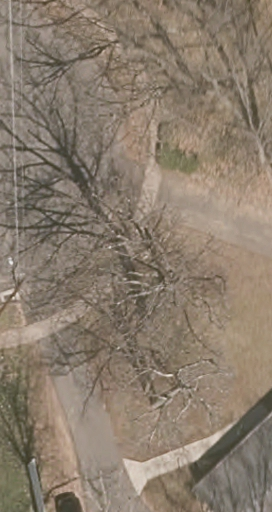DT: (1, 261, 31, 315)
